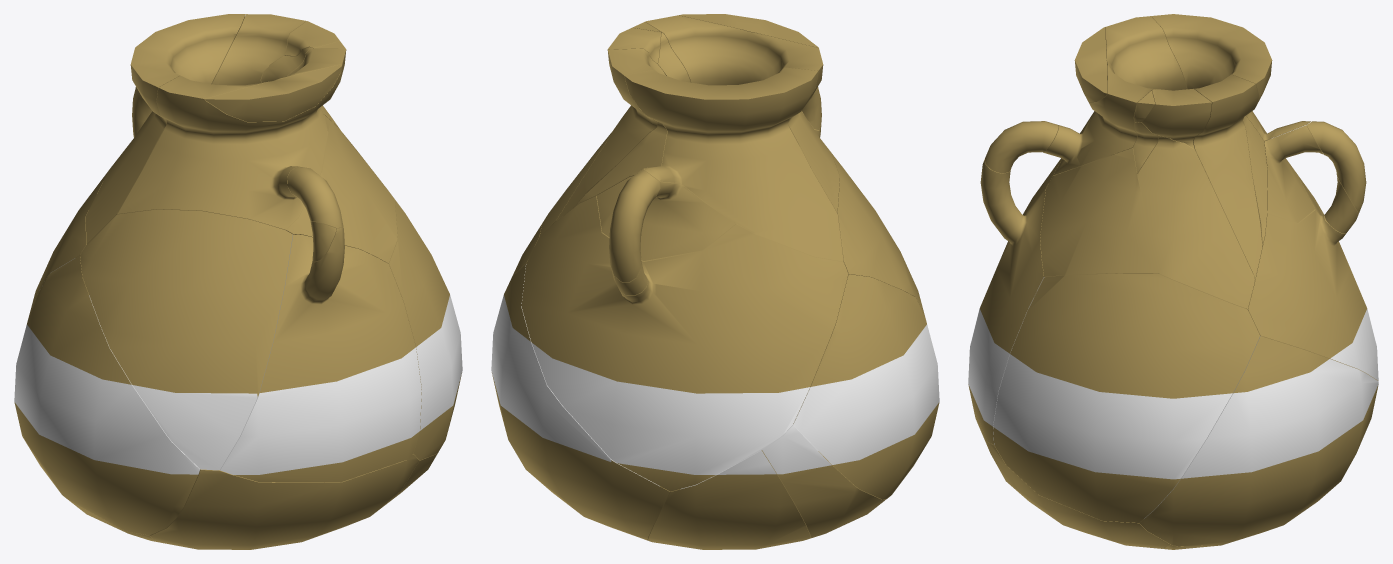
File: pot_low_parts.fbx
3 renders of one model, left to right at view 1: azimuth 30°, elevation 25°; view 2: azimuth 150°, elevation 25°; view 3: azimuth 270°, elevation 25°, orthographic.
Parts seen in each view (by area): view 1: pot_broken_part.027, pot_broken_part.021, pot_broken_part.013, pot_broken_part.014, pot_broken_part.023, pot_broken_part.020, pot_broken_part.017, pot_broken_part.012, pot_broken_part.028, pot_broken_part.008, pot_broken_part.009, pot_broken_part (+4 smaller); view 2: pot_broken_part, pot_broken_part.020, pot_broken_part.013, pot_broken_part.015, pot_broken_part.025, pot_broken_part.014, pot_broken_part.024, pot_broken_part.016, pot_broken_part.027, pot_broken_part.008, pot_broken_part.026, pot_broken_part.007 (+4 smaller); view 3: pot_broken_part.017, pot_broken_part.015, pot_broken_part, pot_broken_part.005, pot_broken_part.012, pot_broken_part.021, pot_broken_part.014, pot_broken_part.008, pot_broken_part.020, pot_broken_part.016, pot_broken_part.001, pot_broken_part.022 (+7 smaller).
Part boxes in pixels (<box>): pot_broken_part.027: <box>80,209,292,470</box>; pot_broken_part.021: <box>220,227,421,482</box>; pot_broken_part.013: <box>14,255,199,535</box>; pot_broken_part.014: <box>118,48,346,229</box>; pot_broken_part.023: <box>150,454,419,549</box>; pot_broken_part.020: <box>85,14,245,243</box>; pot_broken_part.017: <box>380,180,462,460</box>; pot_broken_part.012: <box>285,114,397,263</box>; pot_broken_part.028: <box>205,64,342,121</box>; pot_broken_part.008: <box>212,14,306,85</box>; pot_broken_part.009: <box>287,167,343,227</box>; pot_broken_part: <box>32,170,108,304</box>; pot_broken_part: <box>521,196,848,491</box>; pot_broken_part.020: <box>624,67,843,261</box>; pot_broken_part.013: <box>793,274,939,499</box>; pot_broken_part.015: <box>491,264,670,540</box>; pot_broken_part.025: <box>648,450,810,549</box>; pot_broken_part.014: <box>645,15,839,212</box>; pot_broken_part.024: <box>761,424,885,538</box>; pot_broken_part.016: <box>597,167,735,260</box>; pot_broken_part.027: <box>831,153,923,309</box>; pot_broken_part.008: <box>556,48,665,220</box>; pot_broken_part.026: <box>609,170,659,282</box>; pot_broken_part.007: <box>574,120,667,207</box>; pot_broken_part.017: <box>993,273,1259,522</box>; pot_broken_part.015: <box>1139,336,1378,546</box>; pot_broken_part: <box>1246,171,1378,380</box>; pot_broken_part.005: <box>1137,135,1254,308</box>; pot_broken_part.012: <box>1040,147,1159,276</box>; pot_broken_part.021: <box>968,162,1048,444</box>; pot_broken_part.014: <box>1042,16,1186,175</box>; pot_broken_part.008: <box>1193,74,1262,275</box>; pot_broken_part.020: <box>1151,14,1310,141</box>; pot_broken_part.016: <box>1264,125,1323,222</box>; pot_broken_part.001: <box>1142,88,1211,148</box>; pot_broken_part.022: <box>1007,466,1171,548</box>.
Bounding box in the file's own units: 2.28 × 2.07 × 2.52.
